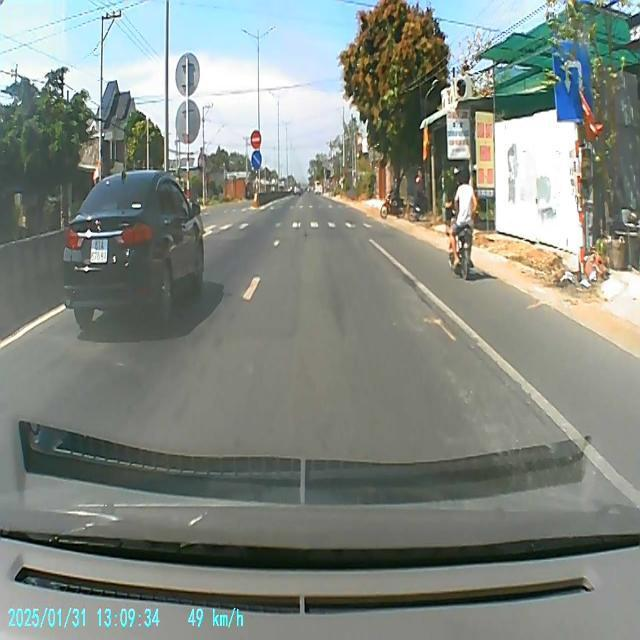102-cam-di-nguoc-chieu: (250, 128, 262, 148)
302a-huong-phai-di-vong-chuong-ngai-vat-1: (250, 150, 262, 170)
